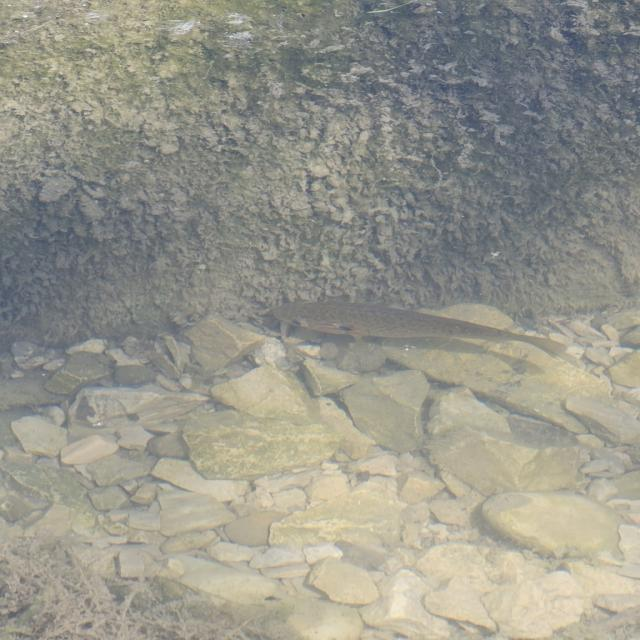Gunes Levregi: (268, 299, 580, 365)
